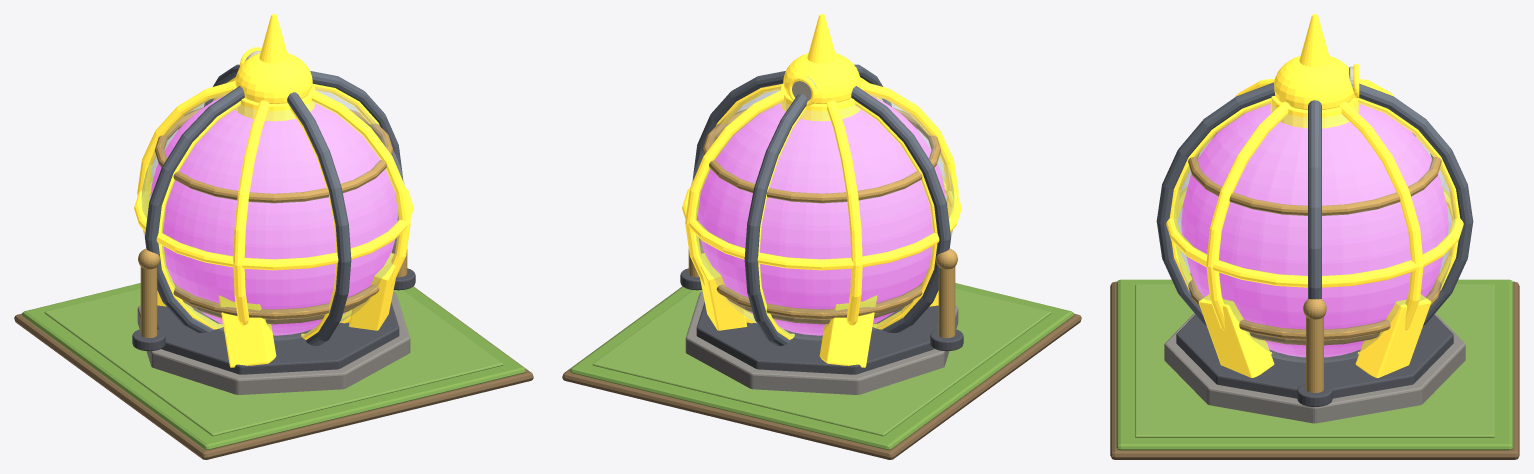
Rendered from elixir_storage_lv8.glb.
3 views of the same model, side by side, from view 1: azimuth 30°, elevation 25°; view 2: azimuth 150°, elevation 25°; view 3: azimuth 270°, elevation 25° (orthographic). The views are drawn at different scales.
Parts seen in each view (by area): view 1: GlassOrb, ElixirCore, Base_Inner, Base_Grass, OctagonalReinforcedBase, StandPlinth, Base_Dirt, GoldenRib_1, ES_ArmorRib_2, ES_ArmorRib_1, EquatorialBrassBand, ES_ArmorRib_0 (+14 smaller); view 2: GlassOrb, ElixirCore, Base_Inner, Base_Grass, OctagonalReinforcedBase, StandPlinth, Base_Dirt, GoldenRib_0, EquatorialBrassBand, ES_ArmorRib_0, ES_ArmorRib_1, UpperTropicsBand (+14 smaller); view 3: GlassOrb, ElixirCore, Base_Inner, Base_Grass, OctagonalReinforcedBase, StandPlinth, Base_Dirt, ES_ArmorRib_1, ES_ArmorRib_3, EquatorialBrassBand, TopPressureDome, GoldenRib_0 (+14 smaller).
Part boxes in pixels (x1=…): GlassOrb: x1=141, y1=87, x2=404, y2=340; ElixirCore: x1=150, y1=96, x2=397, y2=335; Base_Inner: x1=44, y1=288, x2=503, y2=436; Base_Grass: x1=22, y1=283, x2=525, y2=449; OctagonalReinforcedBase: x1=157, y1=302, x2=399, y2=374; StandPlinth: x1=137, y1=292, x2=410, y2=394; Base_Dirt: x1=14, y1=286, x2=533, y2=459; GoldenRib_1: x1=137, y1=81, x2=410, y2=323; ES_ArmorRib_2: x1=145, y1=71, x2=401, y2=332; ES_ArmorRib_1: x1=204, y1=64, x2=351, y2=344; EquatorialBrassBand: x1=134, y1=176, x2=413, y2=270; ES_ArmorRib_0: x1=145, y1=71, x2=402, y2=328; GlassOrb: x1=691, y1=87, x2=954, y2=340; ElixirCore: x1=698, y1=96, x2=945, y2=335; Base_Inner: x1=592, y1=288, x2=1051, y2=436; Base_Grass: x1=570, y1=283, x2=1073, y2=449; OctagonalReinforcedBase: x1=696, y1=302, x2=938, y2=374; StandPlinth: x1=685, y1=292, x2=958, y2=394; Base_Dirt: x1=562, y1=286, x2=1081, y2=459; GoldenRib_0: x1=685, y1=81, x2=958, y2=323; EquatorialBrassBand: x1=682, y1=176, x2=961, y2=270; ES_ArmorRib_0: x1=721, y1=75, x2=950, y2=332; ES_ArmorRib_1: x1=745, y1=64, x2=891, y2=346; UpperTropicsBand: x1=702, y1=108, x2=941, y2=203; GlassOrb: x1=1174, y1=101, x2=1455, y2=362; ElixirCore: x1=1181, y1=104, x2=1448, y2=357; Base_Inner: x1=1135, y1=284, x2=1494, y2=437; Base_Grass: x1=1116, y1=279, x2=1513, y2=450; OctagonalReinforcedBase: x1=1176, y1=314, x2=1453, y2=398; StandPlinth: x1=1164, y1=313, x2=1465, y2=423; Base_Dirt: x1=1110, y1=281, x2=1519, y2=459; ES_ArmorRib_1: x1=1156, y1=82, x2=1473, y2=325; ES_ArmorRib_3: x1=1156, y1=83, x2=1473, y2=325; EquatorialBrassBand: x1=1166, y1=186, x2=1463, y2=287; TopPressureDome: x1=1274, y1=56, x2=1353, y2=109; GoldenRib_0: x1=1211, y1=78, x2=1423, y2=354.
Bounding box in the file's own units: 2.76 × 2.68 × 2.76.
